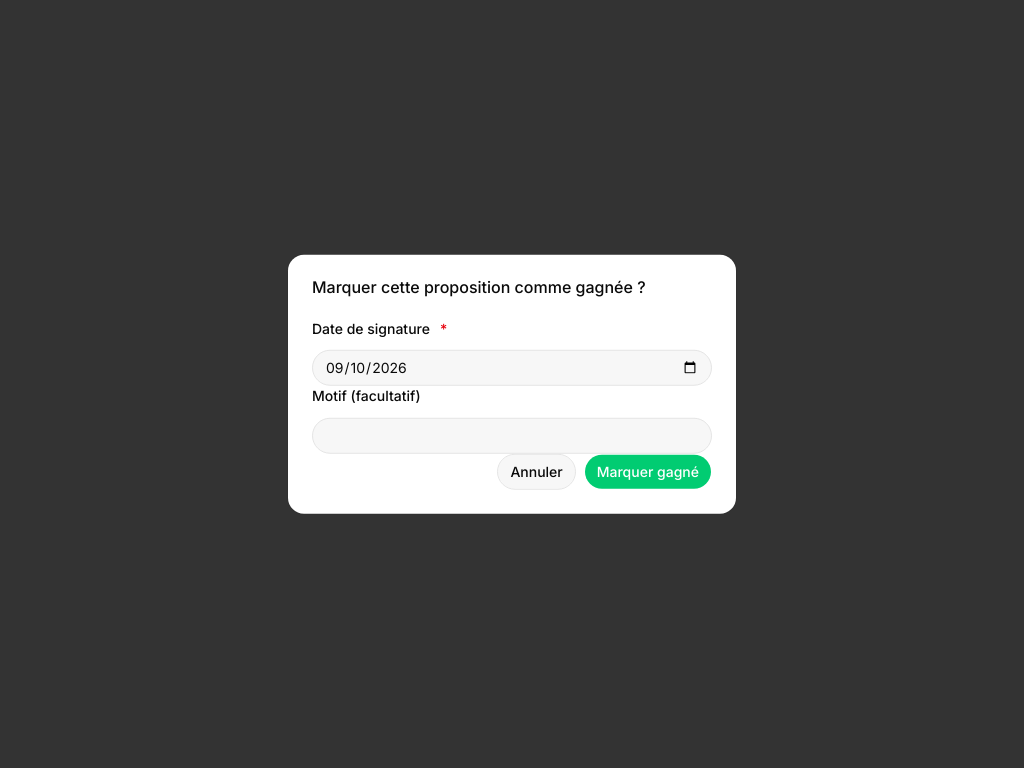
MarkWonDialog (Plan 33-06 Task 1) › Test 3: a siren_required RESULT reveals the SIREN field, preserves values, relabels submit, no toast.error
Type "2026-05-01" into the date field labelled "Date de signature *". click: (512, 368)
box: [312,350,712,386]
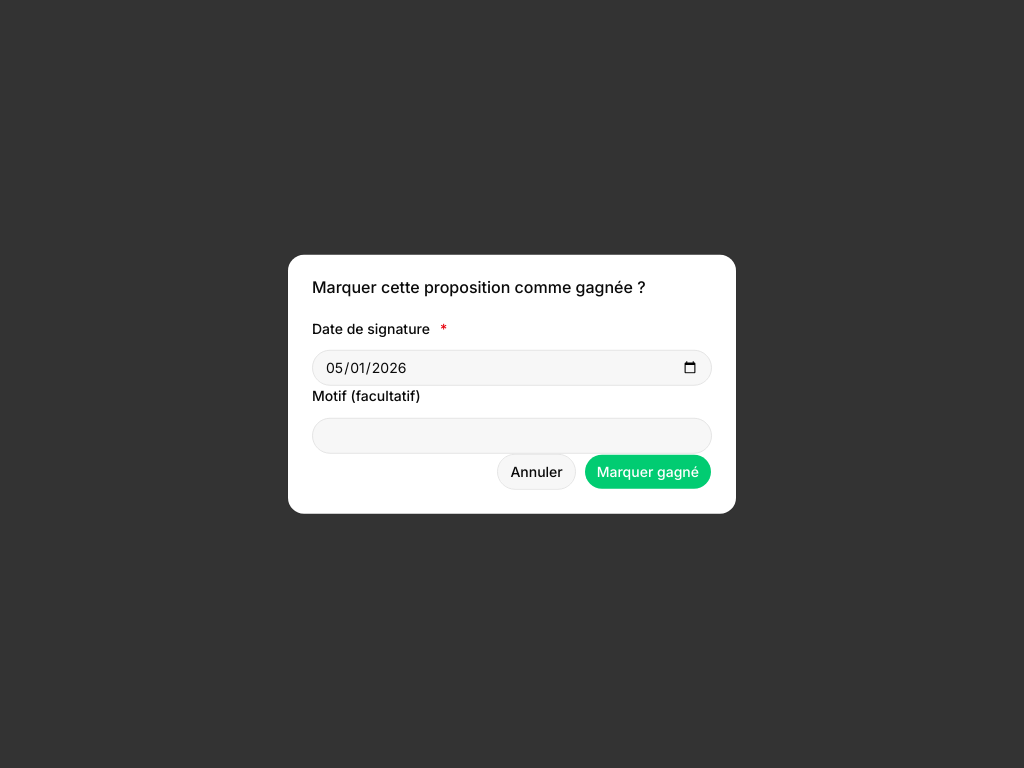
Type "Signature confirmée par mail" into the field labelled "Motif (facultatif)". click: (512, 435)
box: [312,417,712,453]
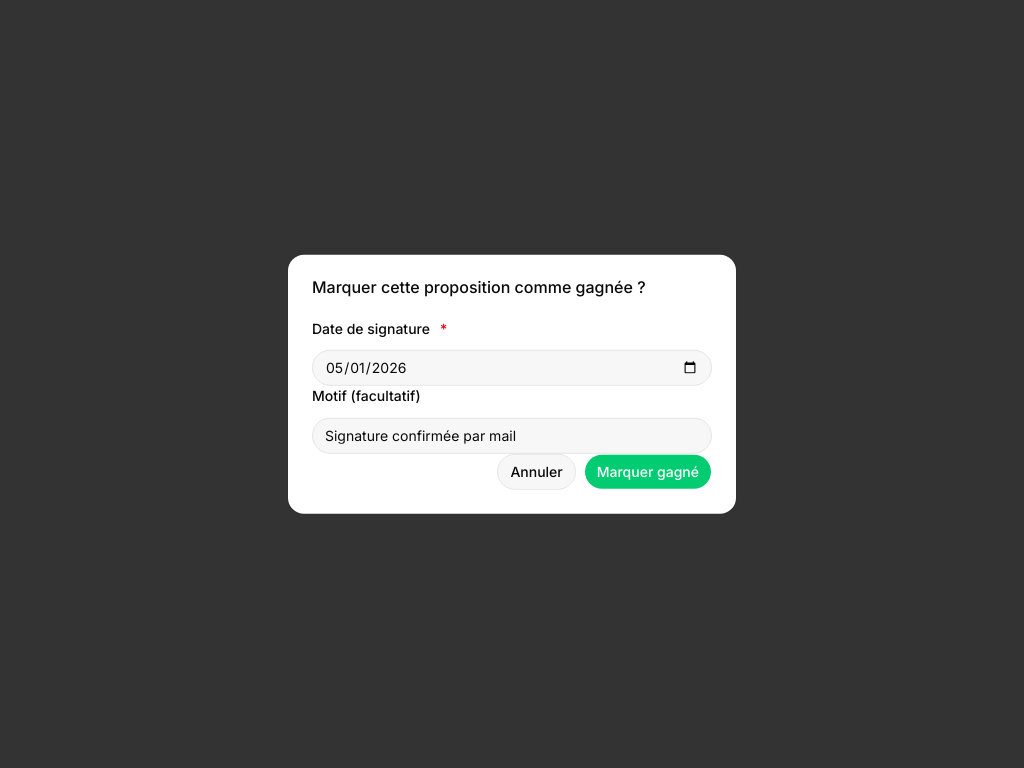
Click the button "Marquer gagné". click: (648, 471)
box: [584,453,712,489]
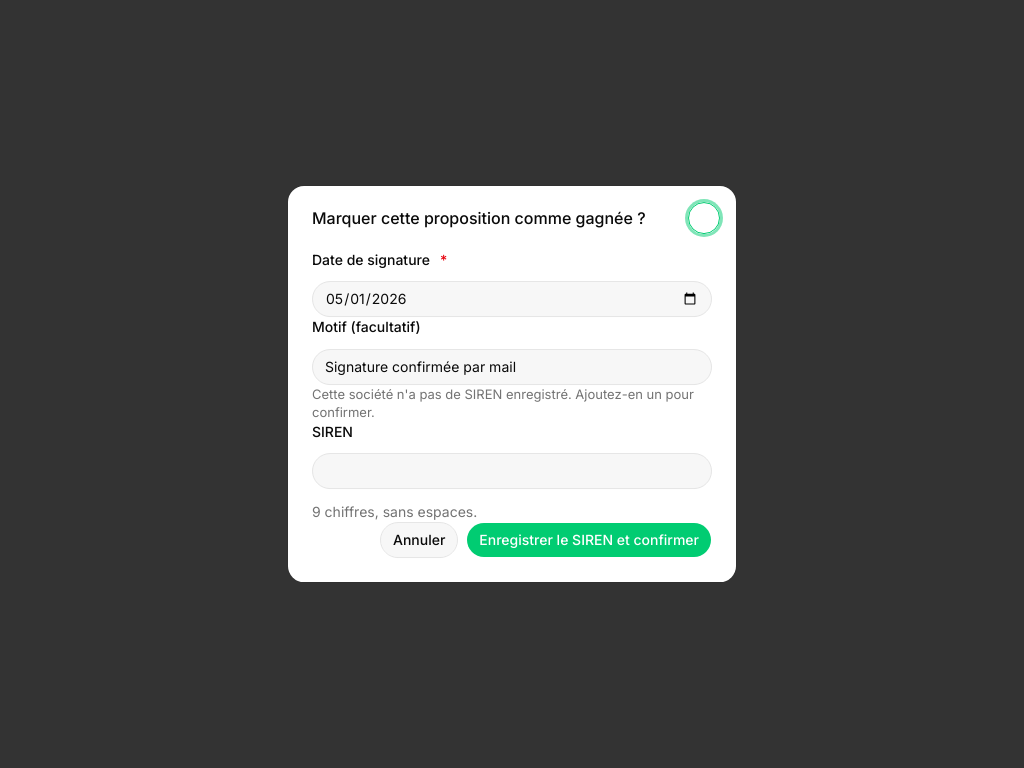
Check: the field labelled "SIREN" is shown, box [312,453,712,489]
Check: the text "Cette société n'a pas de SIREN enregistré. Ajoutez-en un pour confirmer." is shown, box [312,385,712,422]
Check: the button "Enregistrer le SIREN et confirmer" is shown, box [466,522,712,558]
